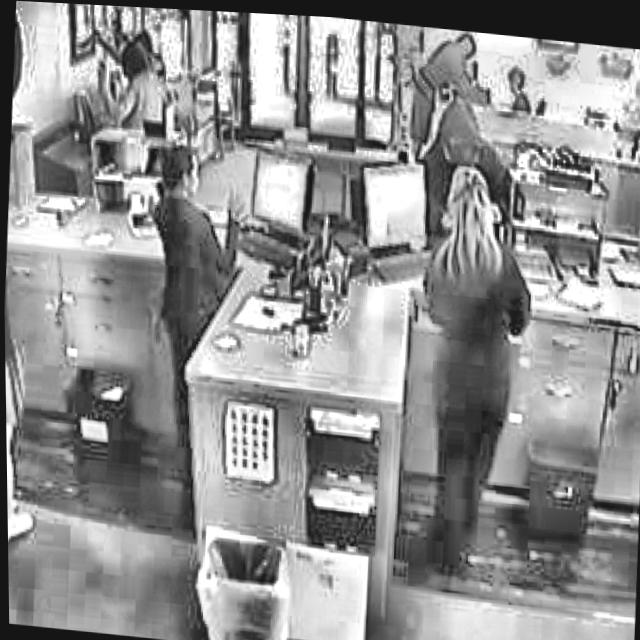robbery: (398, 21, 525, 232), (135, 134, 258, 282), (86, 4, 179, 130)
